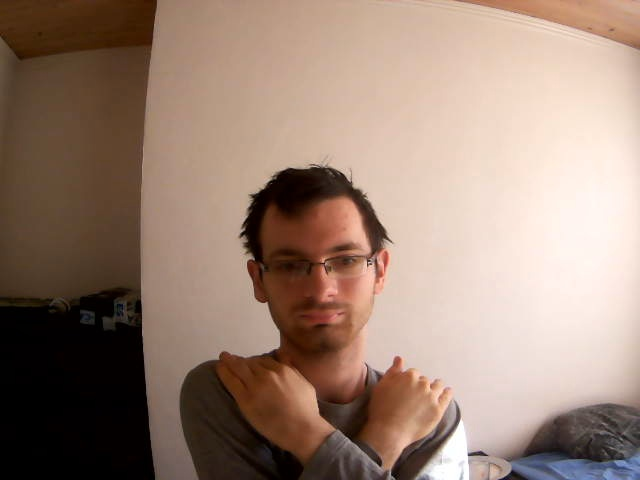butterfly: (212, 346, 455, 460)
